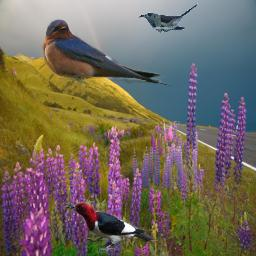Cuckoo: (139, 3, 200, 33)
Swallow: (41, 19, 173, 87)
Woodpecker: (60, 200, 157, 254)
